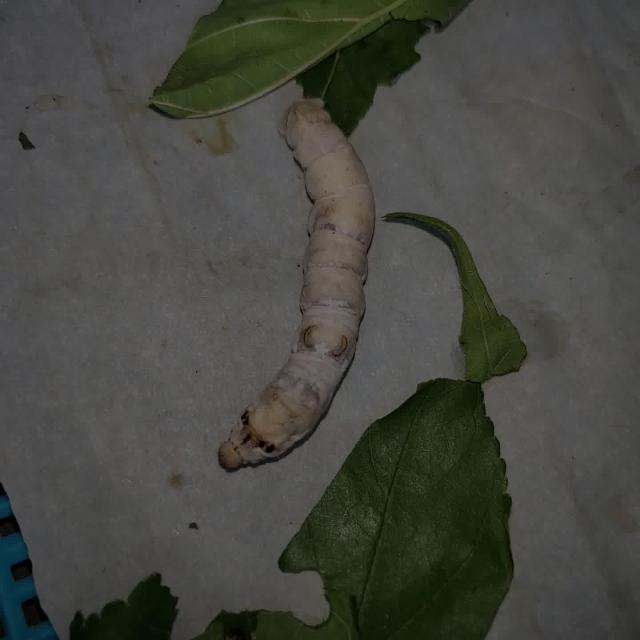Grasserie: (209, 84, 383, 483)
